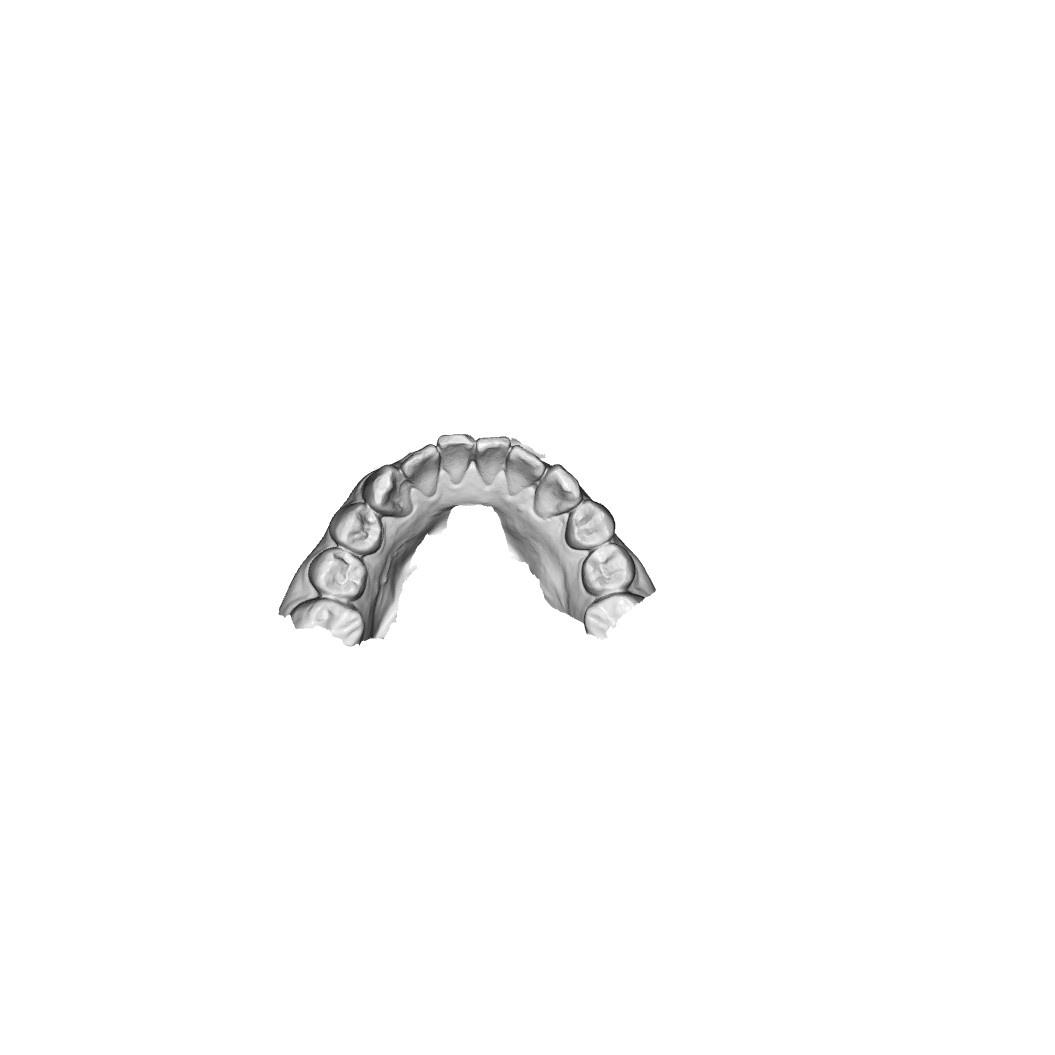canine: (362, 465, 412, 521), (534, 467, 582, 518)
incisor: (437, 434, 480, 484), (404, 447, 446, 494), (502, 445, 543, 493), (476, 433, 507, 484)
premolar: (312, 549, 367, 596), (566, 500, 615, 548), (332, 506, 379, 550), (583, 547, 631, 590)
